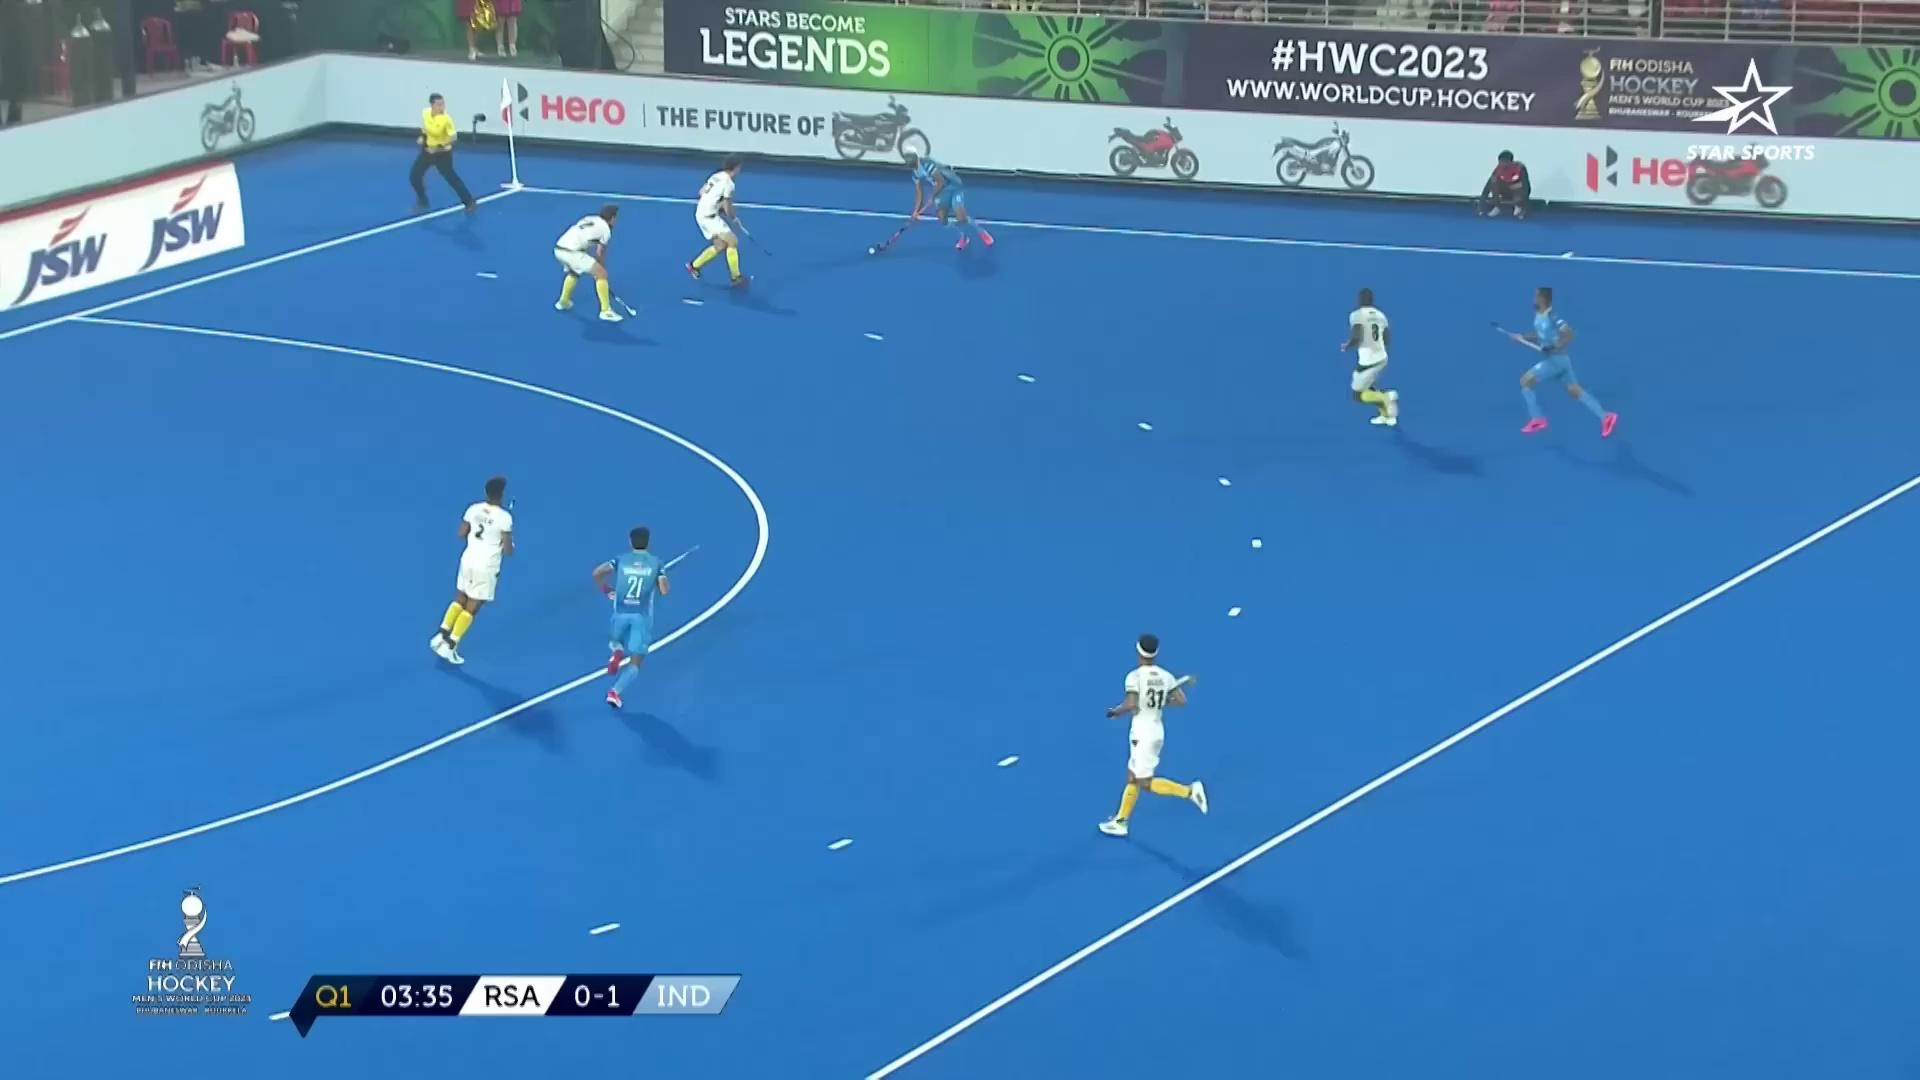ball: (856, 236, 887, 262)
